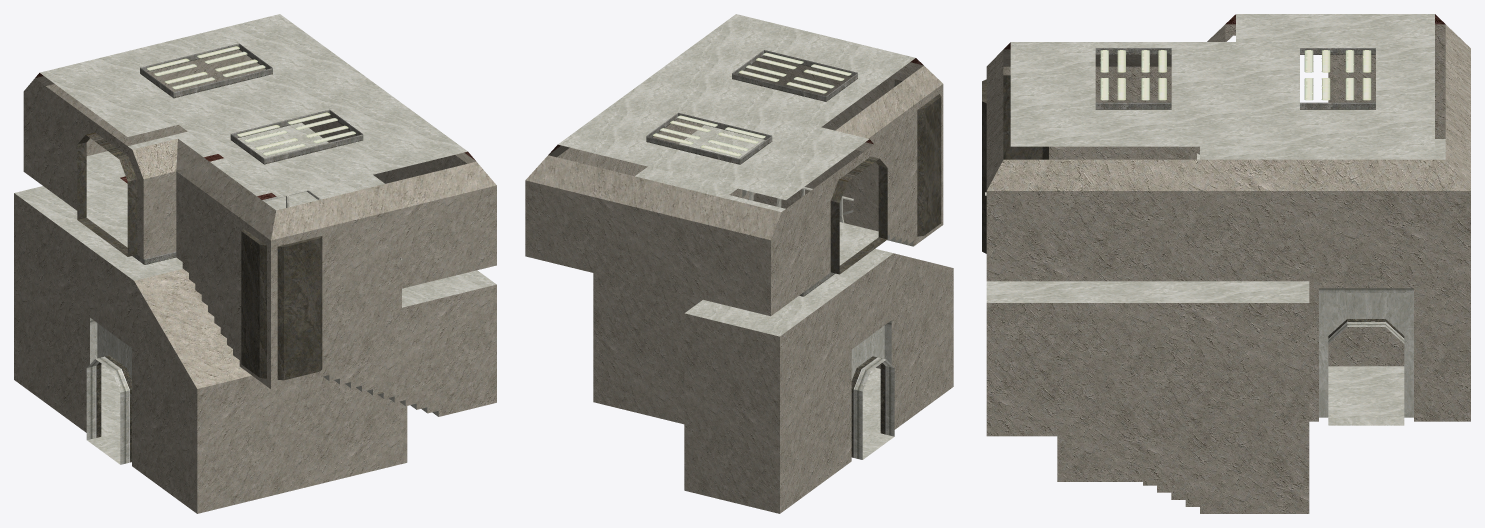
Rendered from ply_corl_assoc_hall_civ_s01_r4_stairwella_mesh_stairwella.fbx.
3 renders of one model, left to right at view 1: azimuth 30°, elevation 25°; view 2: azimuth 150°, elevation 25°; view 3: azimuth 270°, elevation 25°, orthographic. The views are drawn at different scales.
Parts seen in each view (by area): view 1: mesh_node; view 2: mesh_node; view 3: mesh_node.
Part boxes in pixels (x1,y1,x2,y2): mesh_node: [14, 14, 496, 513]; mesh_node: [525, 14, 953, 513]; mesh_node: [982, 14, 1470, 513].
Bounding box in the file's own units: 9.45 × 10.58 × 12.86.
